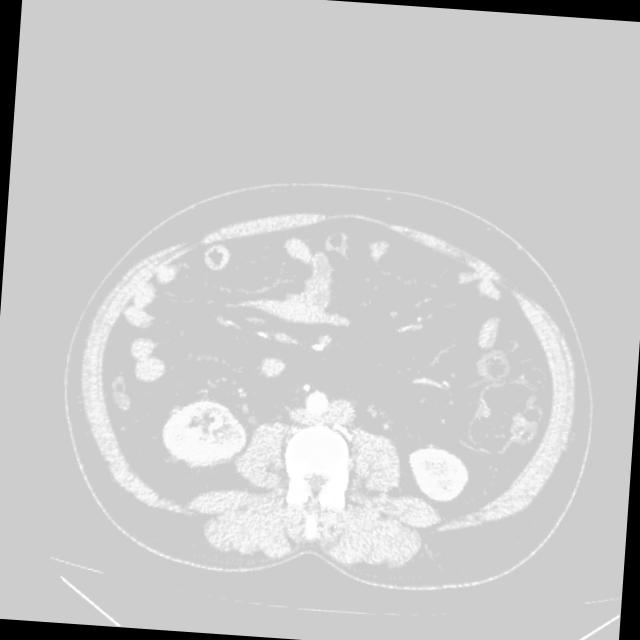TUMOR: (37, 258, 589, 577)
